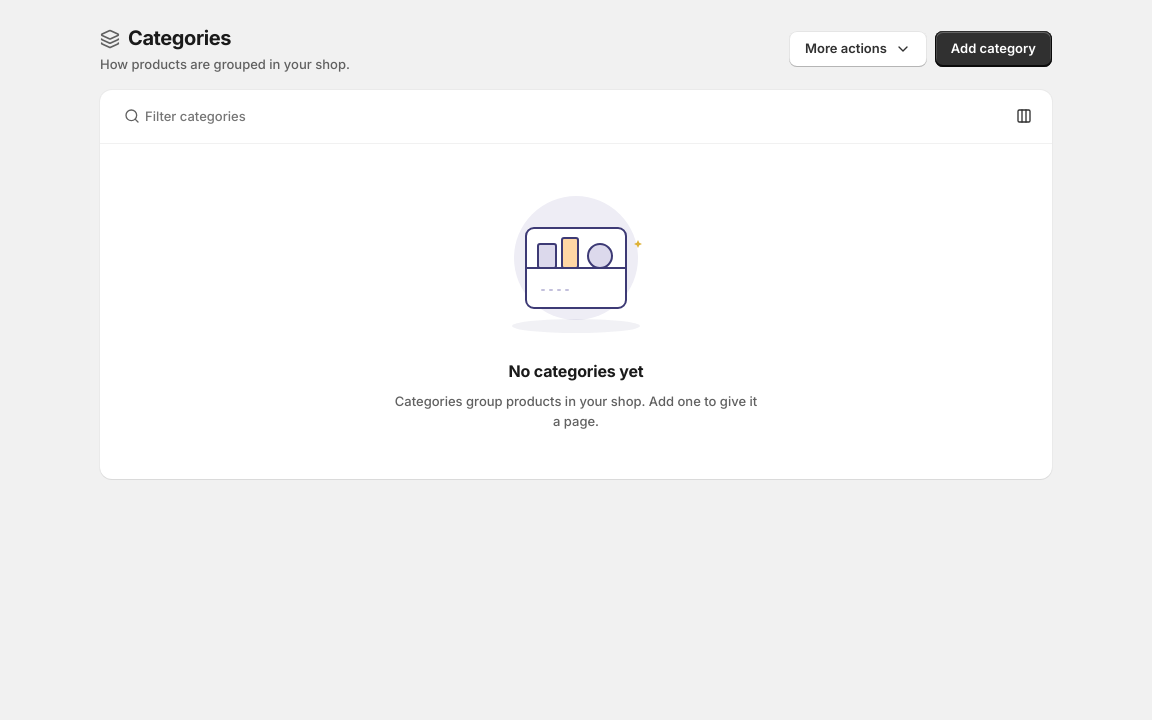
adding a category › says so when the name was already in use, and brings its products with it
Click the button "Add category" at (993, 49), box [935,31,1052,67]
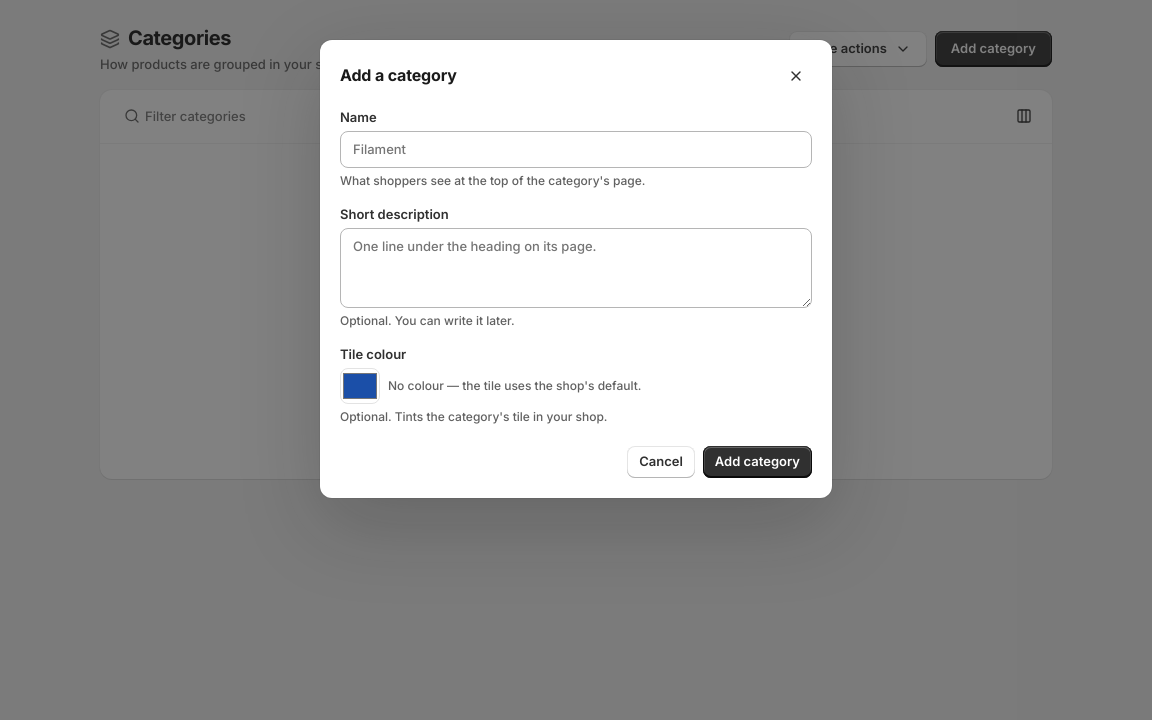
Type "Nozzles" into the field labelled "Name" at (576, 149), box [340,131,812,168]
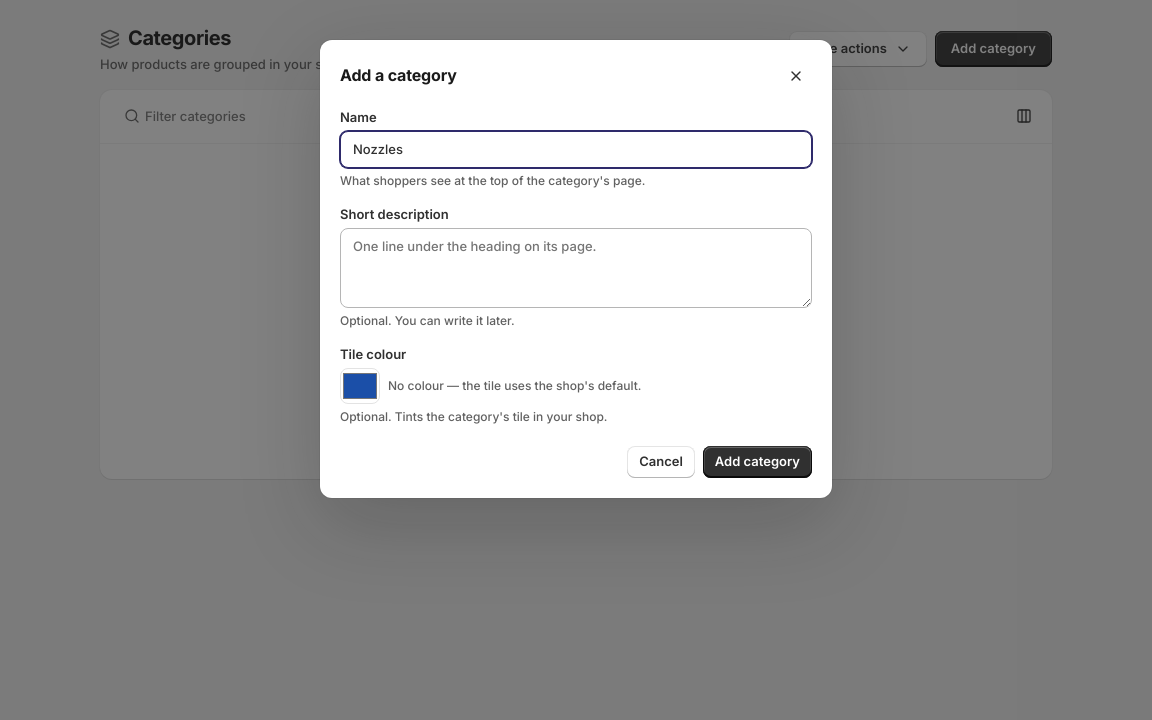
Click the button "Add category" at (757, 462), box [703,446,812,478]
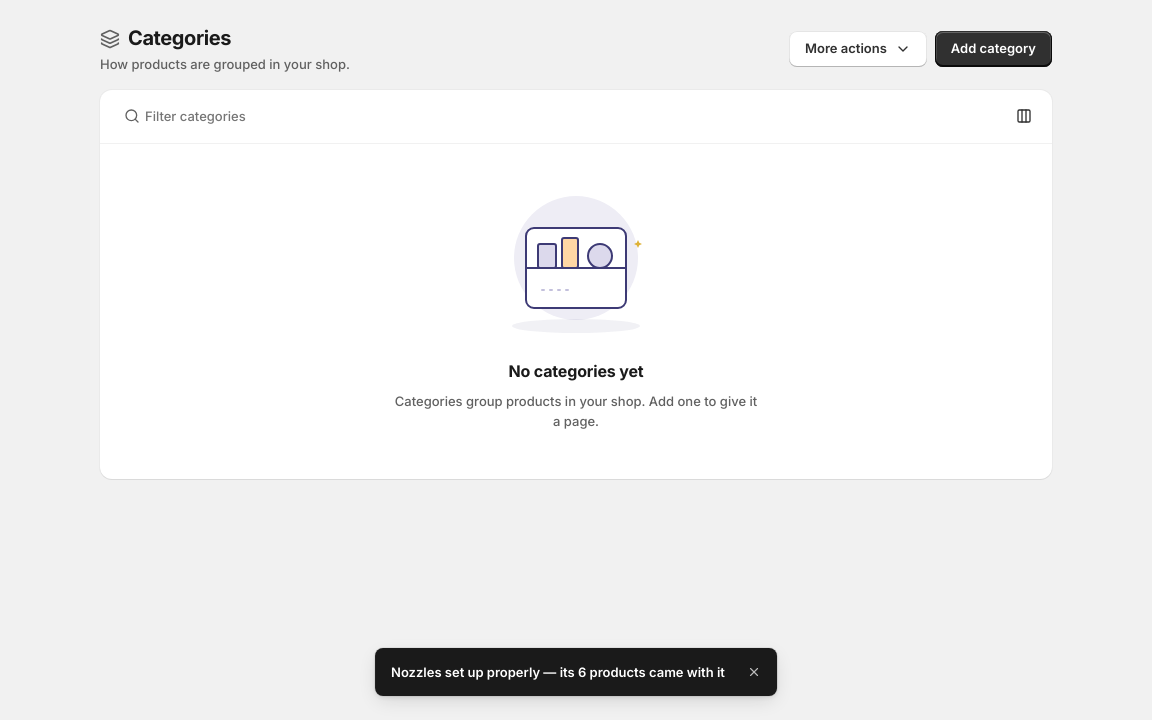
Result: the text "Nozzles set up properly — its 6 products came with it" is shown at [391,663,725,681]
